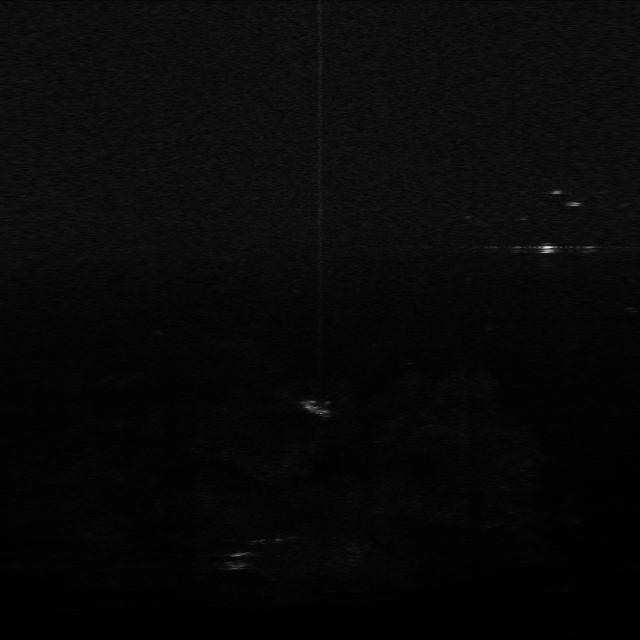rov: (538, 241, 560, 256)
